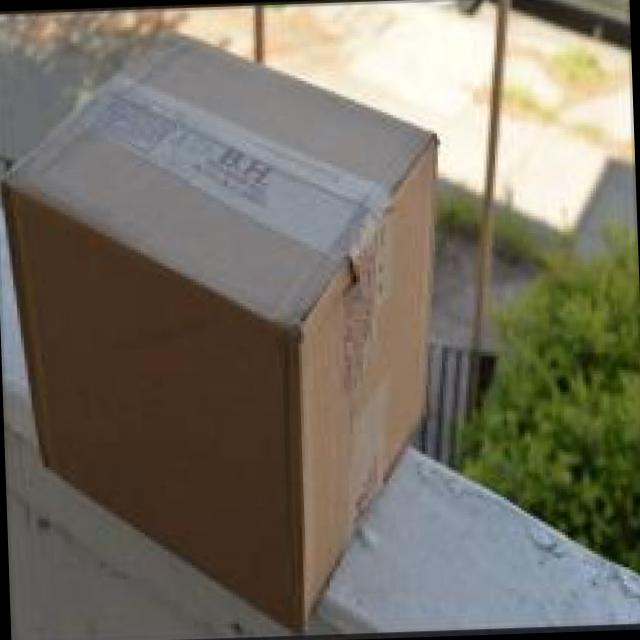box: (88, 80, 578, 640)
crushed: (295, 212, 539, 401)
